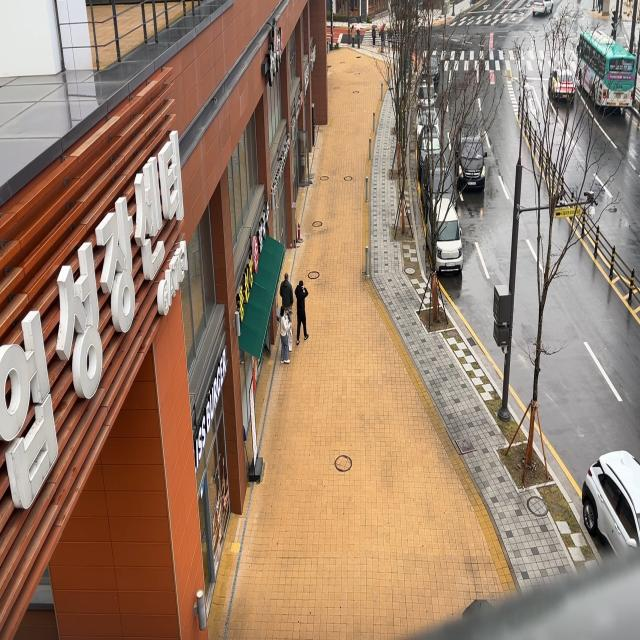Bus: (575, 21, 637, 118)
Car: (582, 448, 640, 557), (425, 190, 462, 272), (454, 116, 492, 191), (422, 148, 453, 206), (544, 54, 578, 102), (414, 126, 440, 168), (416, 105, 441, 138), (417, 75, 442, 107), (424, 47, 444, 79), (531, 0, 554, 17)
